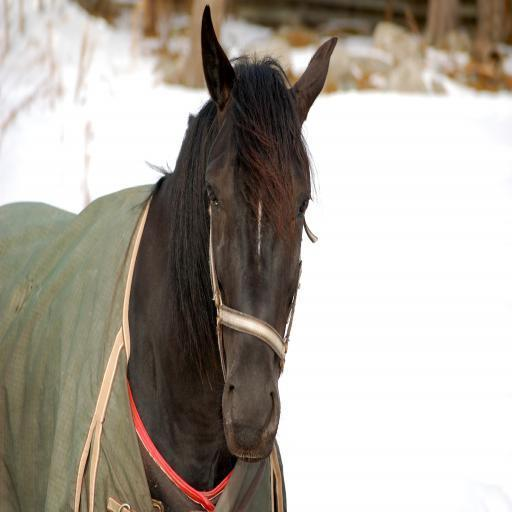horse: (0, 0, 339, 512)
